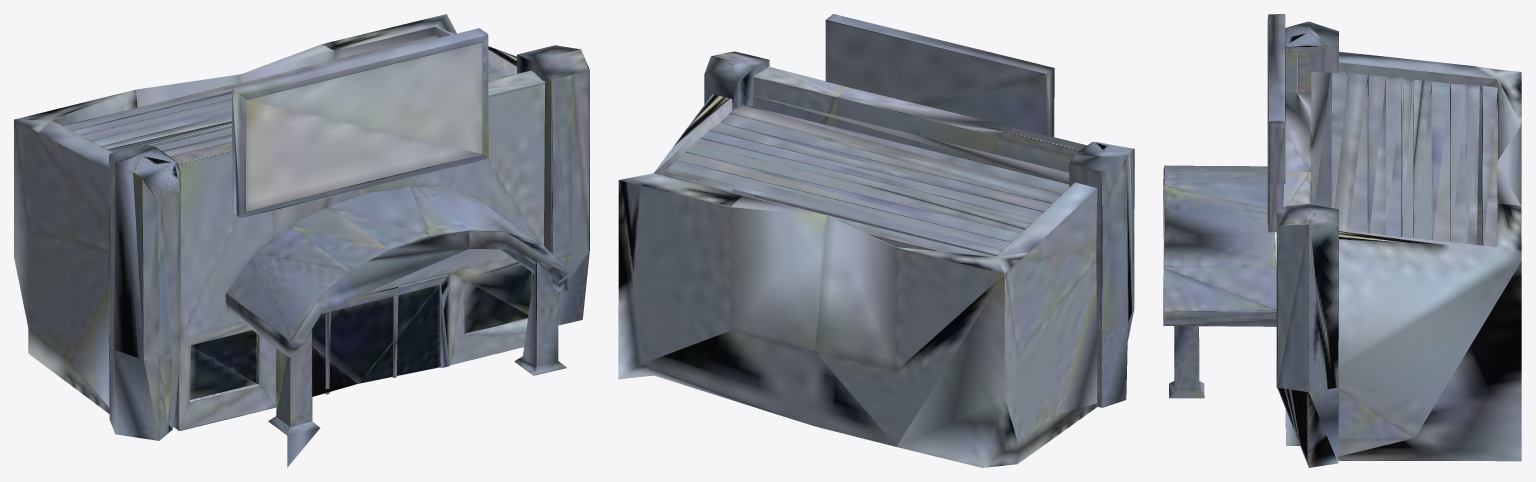
Rendered from 38-cinema.glb.
3 renders of one model, left to right at view 1: azimuth 30°, elevation 25°; view 2: azimuth 150°, elevation 25°; view 3: azimuth 270°, elevation 25°, orthographic. The views are drawn at different scales.
Parts seen in each view (by area): view 1: geometry_0; view 2: geometry_0; view 3: geometry_0.
Part boxes in pixels (bbox=[...]): geometry_0: bbox=[14, 14, 589, 467]; geometry_0: bbox=[618, 14, 1134, 467]; geometry_0: bbox=[1163, 14, 1521, 467].
Size of the model in its own units: 0.9531 by 0.6421 by 0.705.
1 material, 1 textured.
